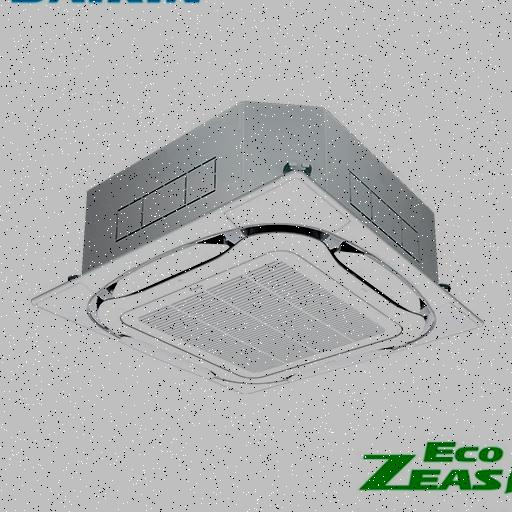4-way-ac: (32, 168, 486, 394)
